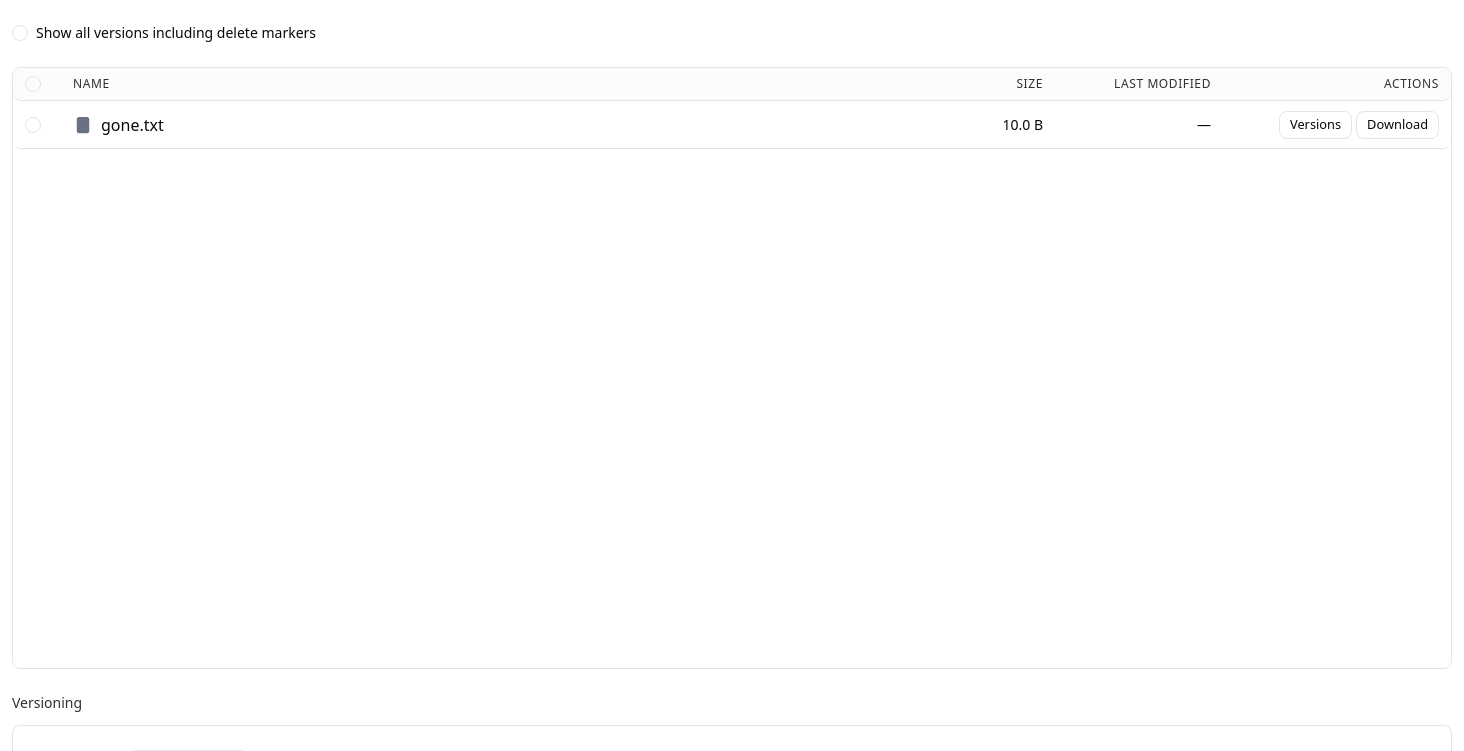
/files/$regionId/b/$bid — versioning UI (v1.10.0b) › renders delete markers with the distinct delete-marker badge
Click the button with test id "file-versions-gone.txt" at x=1316, y=124, box x1=1279 y1=110 x2=1352 y2=138
(page scrolled)
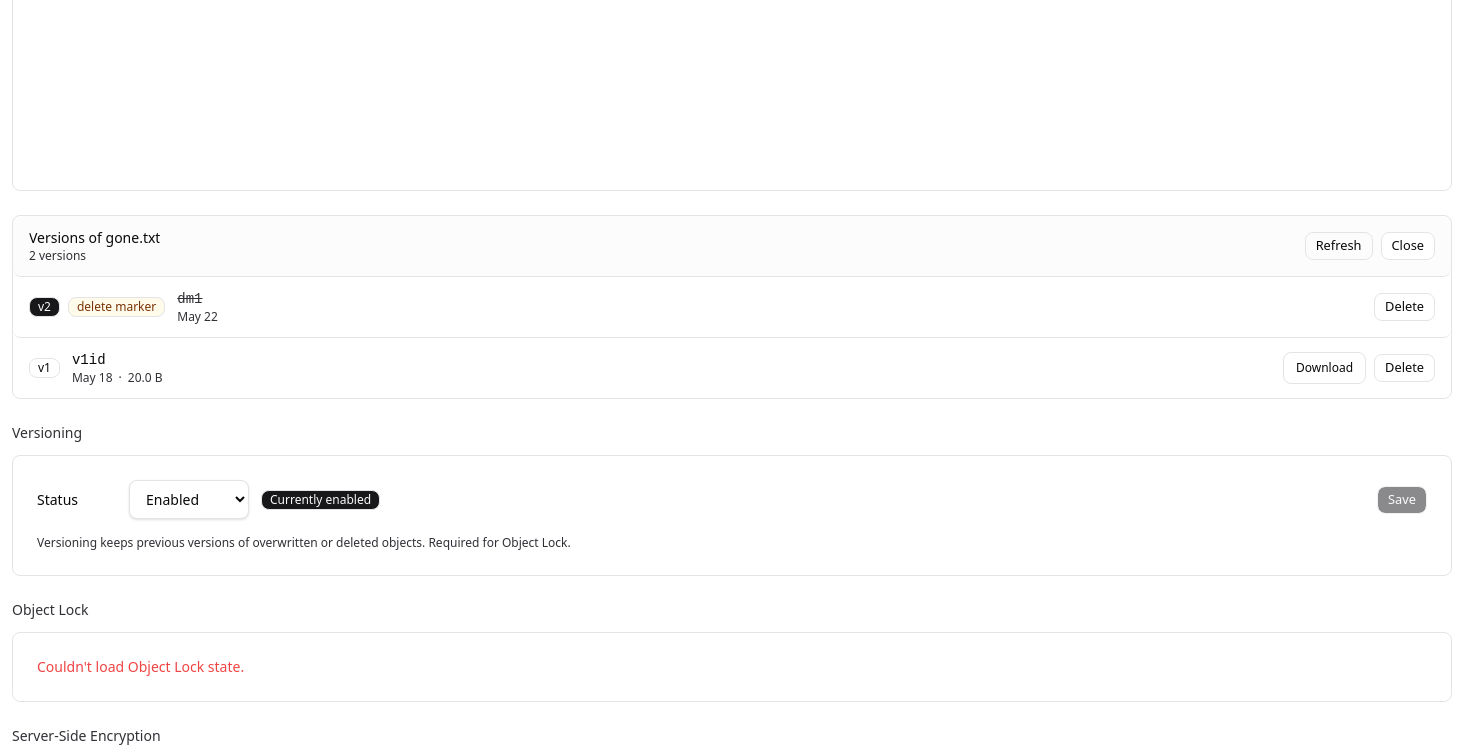
Result: the number of elements with test id "object-version-delete-marker-badge" is 1 at x1=68 y1=297 x2=165 y2=317
Result: the link with test id "object-version-download-v1id" is shown at x1=1283 y1=352 x2=1366 y2=384
